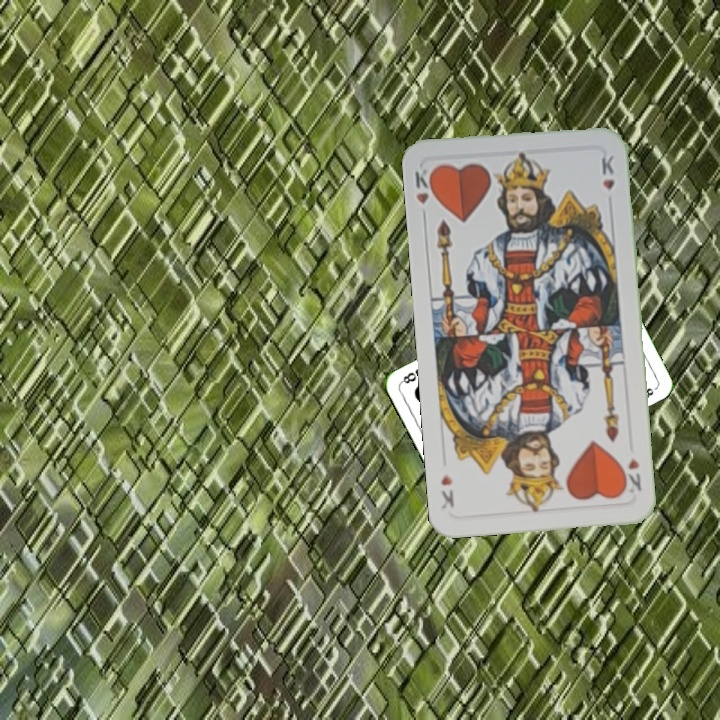HK: (411, 163, 438, 223), (618, 455, 644, 495)
